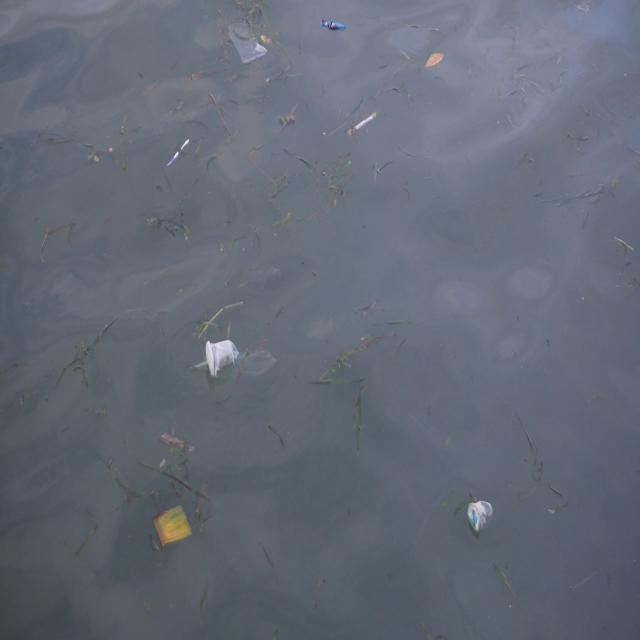Bungkus Minuman: (205, 332, 240, 381), (465, 493, 497, 538)
Kantong Plastik: (228, 18, 271, 70)
